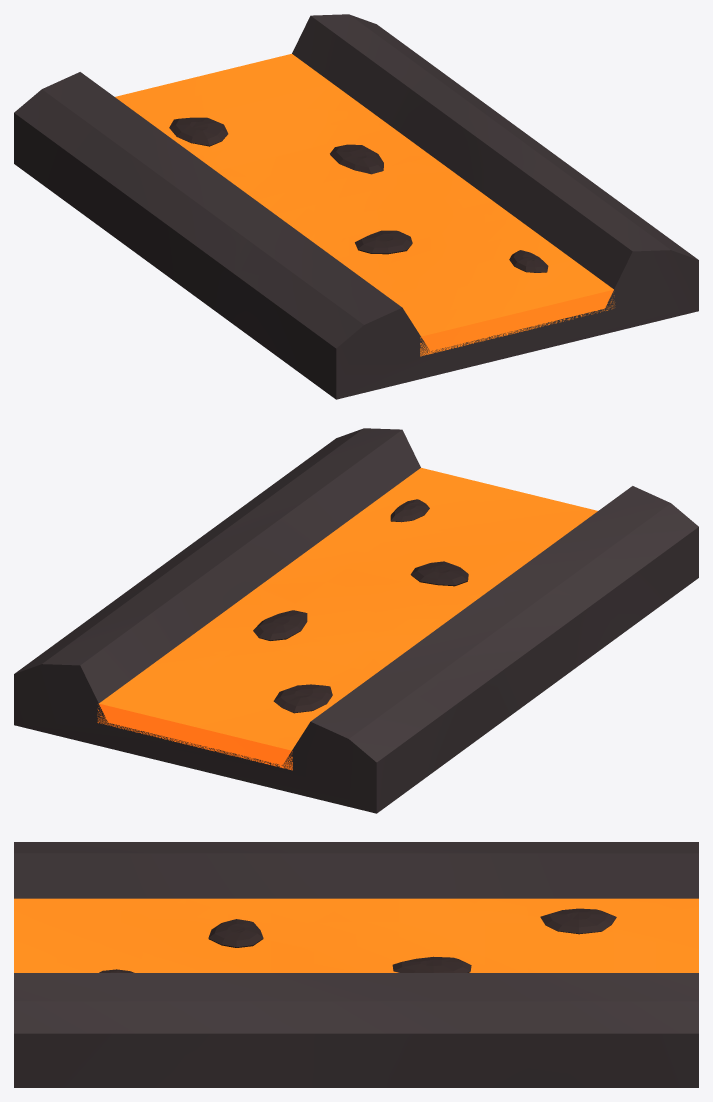
Rendered from Environment_Volcano_LavaChannel8m_001.glb.
3 views of the same model, one above another, from view 1: azimuth 30°, elevation 25°; view 2: azimuth 150°, elevation 25°; view 3: azimuth 270°, elevation 25° (orthographic). The views are drawn at different scales.
Parts seen in each view (by area): view 1: VC_LavaChannel8m_Body; view 2: VC_LavaChannel8m_Body; view 3: VC_LavaChannel8m_Body.
Part boxes in pixels (box(x1,y1,x2,y2)): VC_LavaChannel8m_Body: box(14, 14, 698, 399); VC_LavaChannel8m_Body: box(14, 428, 698, 813); VC_LavaChannel8m_Body: box(14, 842, 698, 1087).
Bounding box in the file's own units: 5.2 × 1.04 × 8.
